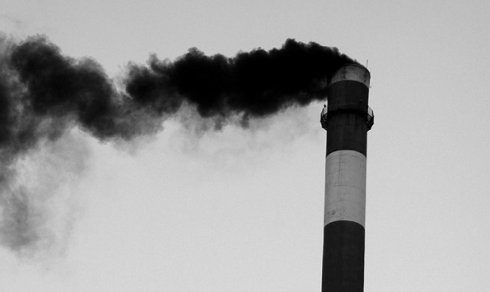dust: (119, 32, 381, 124)
